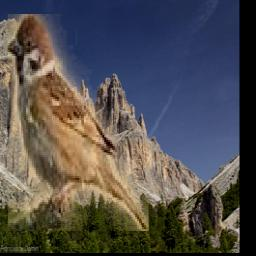Sparrow: (8, 15, 149, 232)
